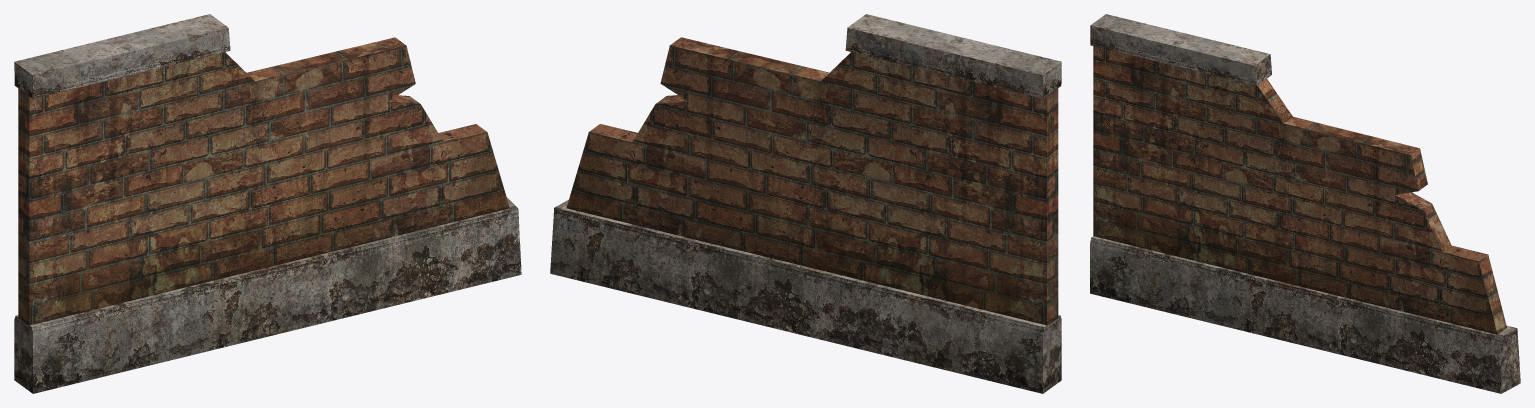
Rendered from Wall3C_LOD1.fbx.
The picture shows the model from 3 angles, left to right: view 1: azimuth 30°, elevation 25°; view 2: azimuth 150°, elevation 25°; view 3: azimuth 330°, elevation 25°; orthographic projection. The views are drawn at different scales.
Parts seen in each view (by area): view 1: polySurface85; view 2: polySurface85; view 3: polySurface85.
Part boxes in pixels (x1,y1,x2,y2): polySurface85: (14, 14, 521, 393); polySurface85: (550, 14, 1061, 393); polySurface85: (1090, 14, 1520, 393).
Size of the model in its own units: 4.56 by 2.82 by 0.3.
